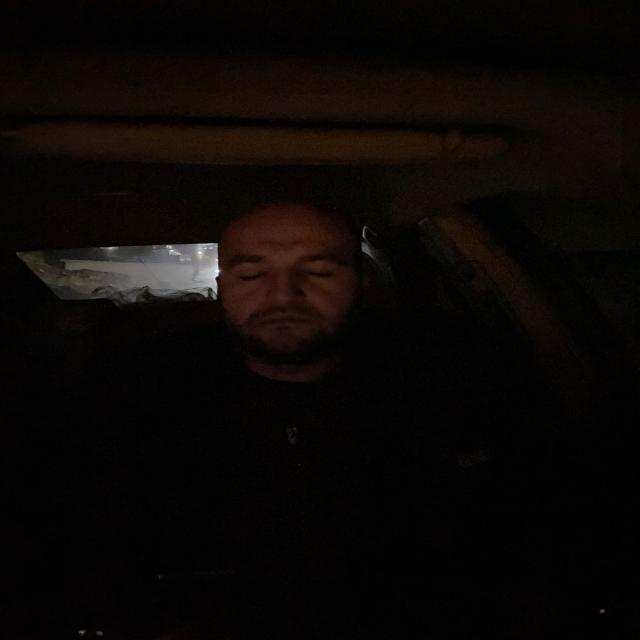drowsy: (208, 190, 376, 376)
